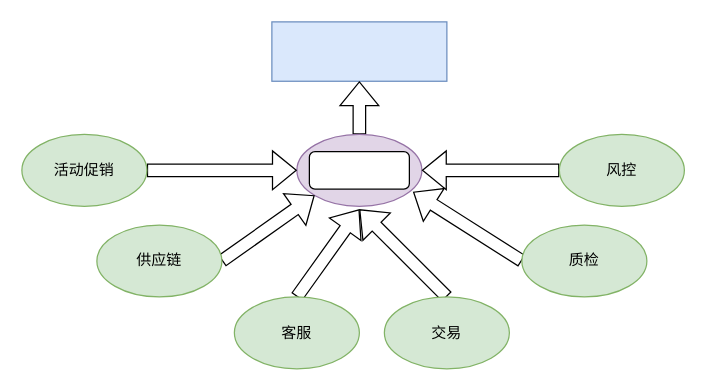
Image size: 706x391. Some labels were removed from this diagram. The shapes that lost their labels are listed below. From the top down, each one's centre as x and y in pixels, then its label:
At [359,51]: "找靓机靓选、主商城等".
At [358,169]: "商品".
